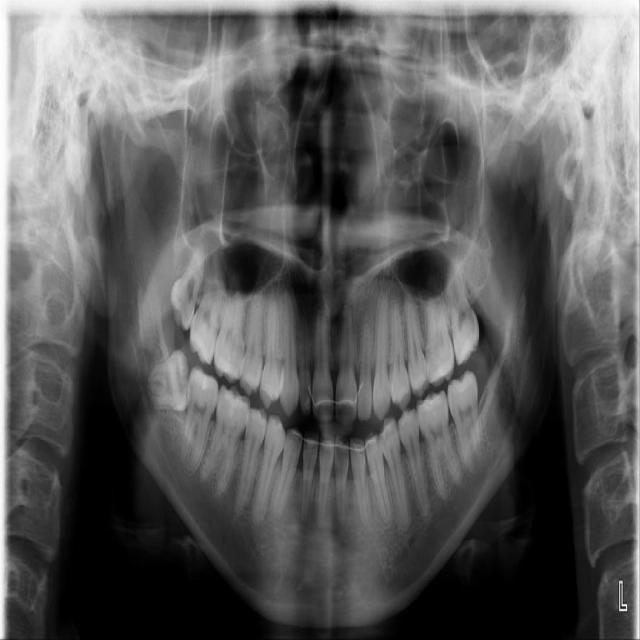impacted tooth: (141, 348, 193, 411)
